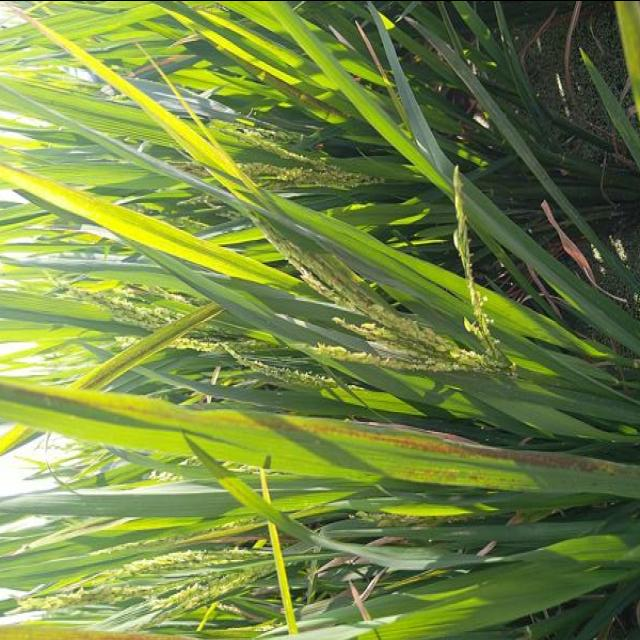Leaf Streak: (0, 383, 640, 478), (81, 302, 224, 390), (253, 67, 350, 117), (0, 623, 197, 640), (409, 466, 483, 486)
